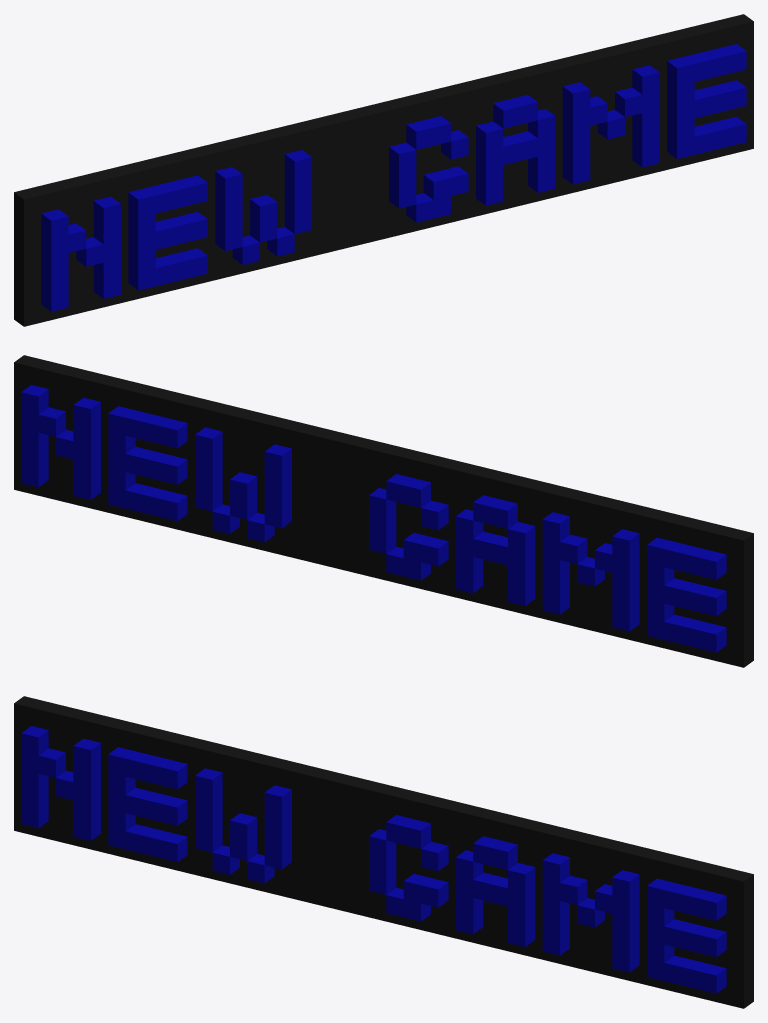
File: newgame.obj
The picture shows the model from 3 angles, top to bottom: view 1: azimuth 30°, elevation 25°; view 2: azimuth 150°, elevation 25°; view 3: azimuth 330°, elevation 25°; orthographic projection.
Parts seen in each view (by area): view 1: newgame; view 2: newgame; view 3: newgame.
Part boxes in pixels (left/top/right/bottom): newgame: left=14, top=14, right=753, bottom=326; newgame: left=14, top=355, right=753, bottom=667; newgame: left=14, top=696, right=753, bottom=1008.
Bounding box in the file's own units: 42 × 7 × 3.
Materials: 1 (1 with a texture image).
